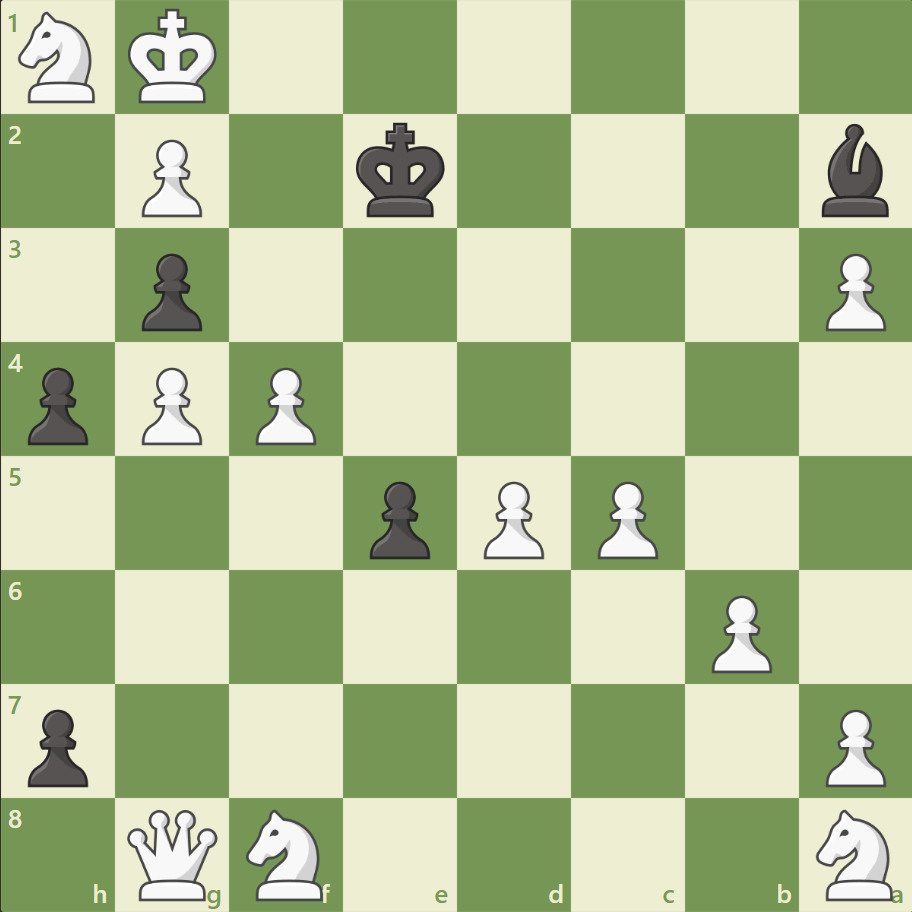K: (124, 4, 224, 112)
N: (11, 7, 108, 110), (806, 802, 903, 904), (238, 802, 335, 904)
P: (701, 586, 776, 677), (474, 473, 549, 564), (247, 359, 322, 450), (133, 359, 208, 450), (133, 132, 208, 223), (815, 700, 889, 791), (588, 473, 662, 564), (815, 246, 889, 337)
Q: (124, 804, 223, 903)
b: (812, 120, 896, 222)
k: (351, 117, 451, 225)
p: (20, 700, 95, 791), (20, 359, 95, 450), (133, 246, 208, 337), (361, 473, 435, 564)
